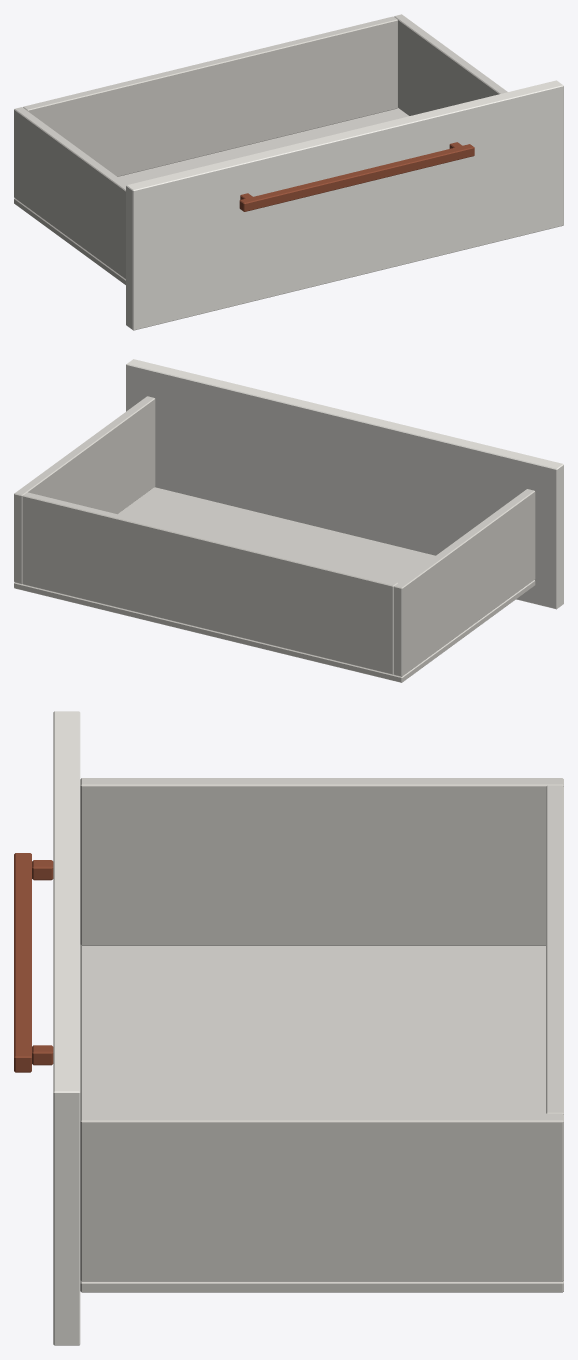
The model's file is base_cabinet_four_drawers_drawer_3.glb.
The picture shows the model from 3 angles, top to bottom: view 1: azimuth 30°, elevation 25°; view 2: azimuth 150°, elevation 25°; view 3: azimuth 270°, elevation 25°; orthographic projection. The views are drawn at different scales.
Visible parts, largest first — view 1: base_cabinet_four_drawers_drawer_3; view 2: base_cabinet_four_drawers_drawer_3; view 3: base_cabinet_four_drawers_drawer_3.
Boxes of the visible parts, box(x1,y1,x2,y2) form: base_cabinet_four_drawers_drawer_3: box(14, 14, 563, 330); base_cabinet_four_drawers_drawer_3: box(14, 359, 563, 682); base_cabinet_four_drawers_drawer_3: box(14, 711, 563, 1345).
Size of the model in its own units: 0.597 by 0.186 by 0.364.
